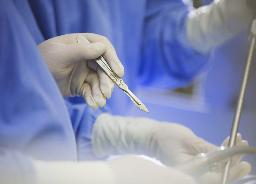scalpel: (76, 35, 150, 113)
